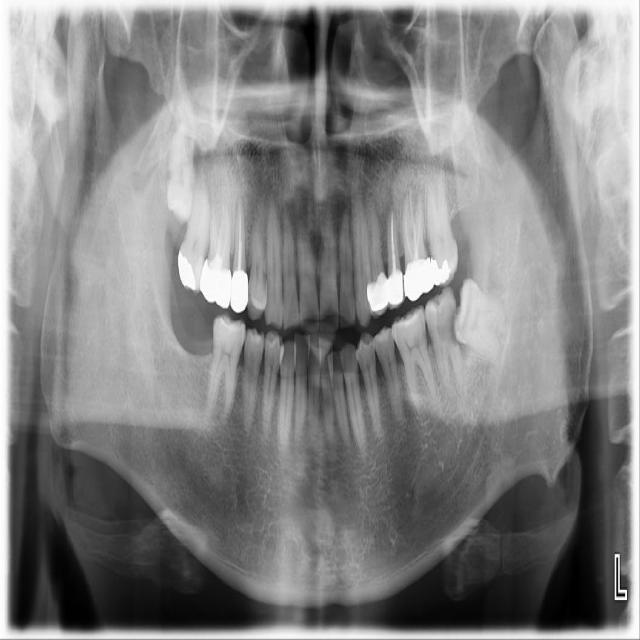3M ESPE Implant: (166, 122, 195, 226)
52: (197, 257, 236, 310), (431, 285, 462, 349), (398, 258, 440, 304), (429, 235, 459, 288), (178, 240, 206, 294), (364, 271, 393, 320), (384, 271, 408, 311), (229, 274, 249, 313)
73: (397, 183, 431, 274), (206, 194, 233, 273), (232, 198, 252, 275), (387, 202, 402, 278), (559, 536, 560, 558)
BioHorizons Implant: (418, 162, 462, 288)
Biomet 3i Implant: (445, 276, 516, 363)
Blue Sky Bio Implant: (422, 285, 467, 401)
Caries: (174, 172, 217, 295)
